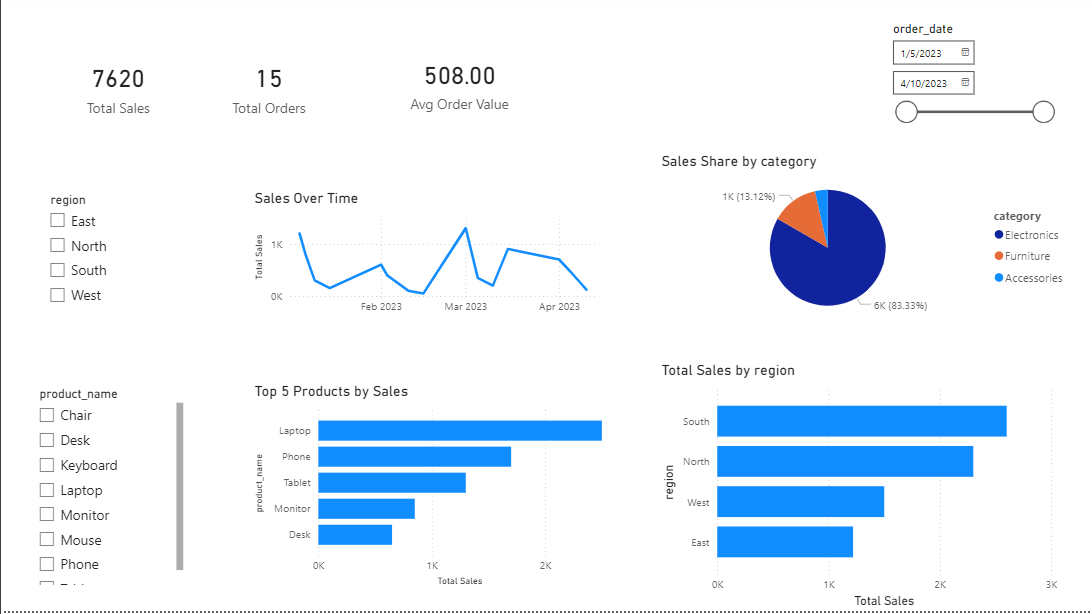

Layout of this report page (visuals, bound fields, positions):
{"tool":"powerbi","page":{"name":"Sales Dashboard","canvas":[1280,720],"ordinal":0},"visuals":[{"type":"card","fields":{"Values":["sales.Total Sales"]},"box":[32,28.8,209.8,155.3],"z":0},{"type":"card","fields":{"Values":["sales.Total Orders"]},"box":[208.2,28.8,209.8,155.3],"z":1000},{"type":"card","fields":{"Values":["sales.Avg Order Value"]},"box":[430.8,28.8,209.8,147.3],"z":2000},{"type":"lineChart","title":"Sales Over Time","fields":{"Y":["sales.Total Sales"],"Category":["sales.order_date"]},"box":[291.5,227.4,422.8,155.3],"z":3000},{"type":"barChart","title":"Top 5 Products by Sales","fields":{"Category":["sales.product_name"],"Y":["sales.Total Sales"]},"box":[291.5,453.2,422.8,241.8],"z":4000},{"type":"slicer","fields":{"Values":["sales.region"]},"box":[44.8,225.8,185.8,155.3],"z":5000},{"type":"slicer","fields":{"Values":["sales.product_name"]},"box":[32,453.2,185.8,241.8],"z":6000},{"type":"slicer","fields":{"Values":["sales.order_date"]},"box":[1029.7,25.6,209.8,150.5],"z":7000},{"type":"pieChart","title":"Sales  Share by category","fields":{"Category":["sales.category"],"Y":["sales.Total Sales"]},"box":[767.1,184.2,488.4,203.4],"z":8000},{"type":"clusteredBarChart","fields":{"Category":["sales.region"],"Y":["sales.Total Sales"]},"box":[767.1,429.2,472.4,291.5],"z":9000}]}

Visuals, with their boxes in screenshot pixels (x1, y1, x2, y2), scaled from the page's 1280x720 canvas onto the 1092x614 screenshot:
card - sales.Total Sales: region(27, 25, 206, 157)
card - sales.Total Orders: region(178, 25, 357, 157)
card - sales.Avg Order Value: region(368, 25, 547, 150)
"Sales Over Time" lineChart: region(249, 194, 609, 326)
"Top 5 Products by Sales" barChart: region(249, 386, 609, 593)
slicer - sales.region: region(38, 193, 197, 325)
slicer - sales.product_name: region(27, 386, 186, 593)
slicer - sales.order_date: region(878, 22, 1057, 150)
"Sales  Share by category" pieChart: region(654, 157, 1071, 331)
clusteredBarChart - sales.region x sales.Total Sales: region(654, 366, 1057, 613)
